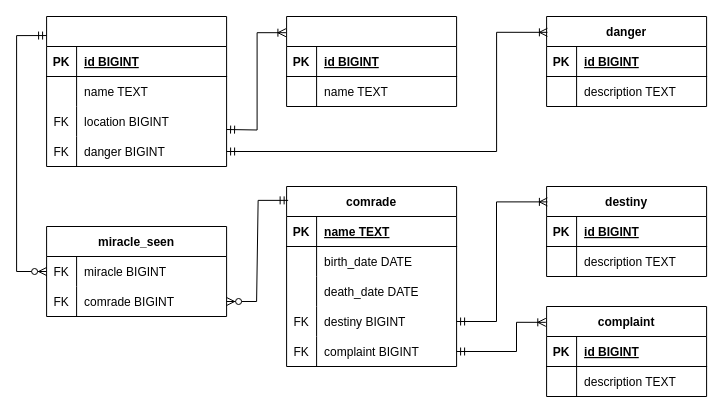
Image size: 723x413. Some labels were removed from this diagram. Each missing label, with the box of its shape:
location: (286, 16, 457, 106)
miracle: (46, 16, 227, 166)
